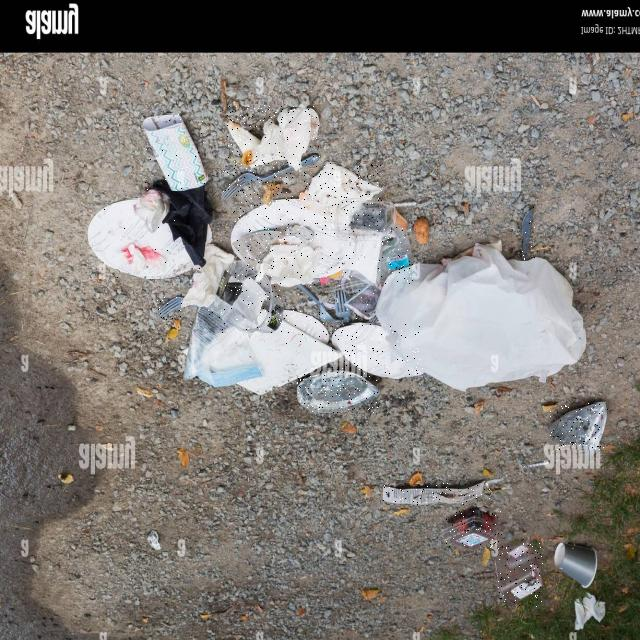metal: (297, 371, 379, 413), (551, 403, 608, 450)
paper: (231, 200, 354, 277), (87, 199, 192, 278), (227, 103, 319, 169), (300, 163, 382, 226), (332, 324, 423, 378), (143, 114, 207, 190), (183, 245, 234, 307), (383, 482, 490, 504), (283, 310, 328, 344), (302, 153, 320, 165)
plastic: (209, 259, 282, 332), (496, 543, 543, 608), (222, 165, 293, 200), (444, 510, 502, 549), (378, 226, 413, 283), (298, 284, 343, 323), (347, 286, 381, 320), (523, 207, 535, 261), (157, 296, 183, 319), (335, 290, 350, 323), (302, 153, 320, 165)
